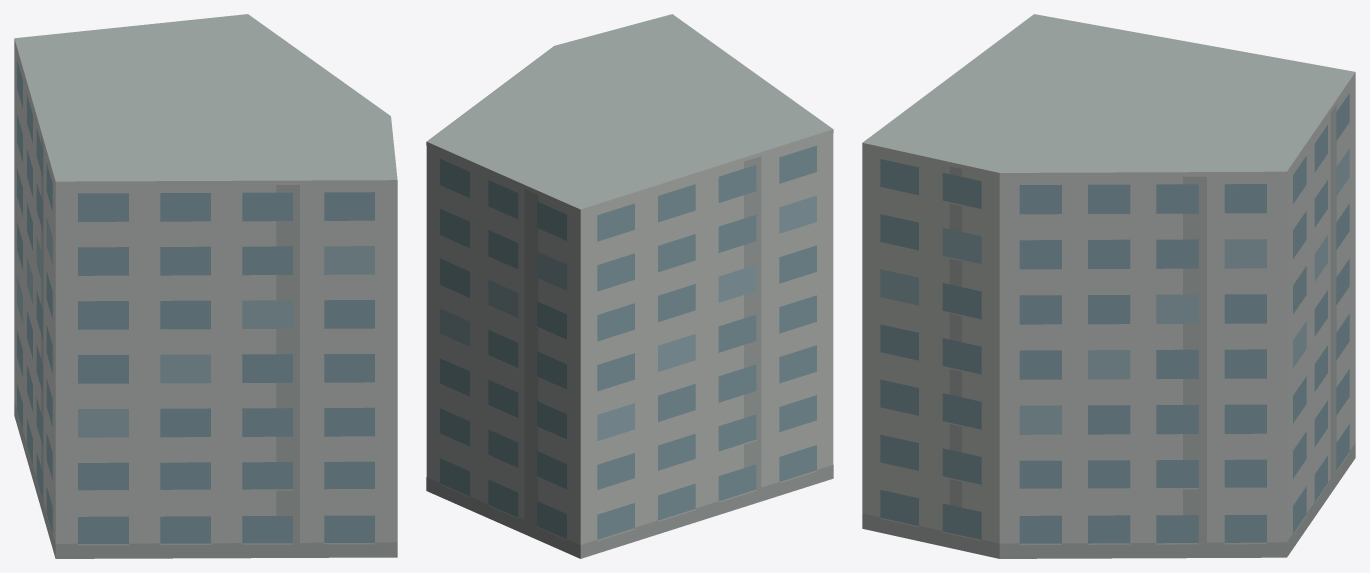
File: survey-upis-32899078.glb
The picture shows the model from 3 angles, left to right: view 1: azimuth 30°, elevation 25°; view 2: azimuth 150°, elevation 25°; view 3: azimuth 270°, elevation 25°; orthographic projection. The views are drawn at different scales.
Parts seen in each view (by area): view 1: survey-upis-32899078.tmp; view 2: survey-upis-32899078.tmp; view 3: survey-upis-32899078.tmp.
Boxes of the visible parts, bbox=[...] form: survey-upis-32899078.tmp: bbox=[14, 14, 397, 558]; survey-upis-32899078.tmp: bbox=[426, 14, 833, 558]; survey-upis-32899078.tmp: bbox=[862, 14, 1355, 558].
Bounding box in the file's own units: 18.75 × 21.22 × 24.59.
